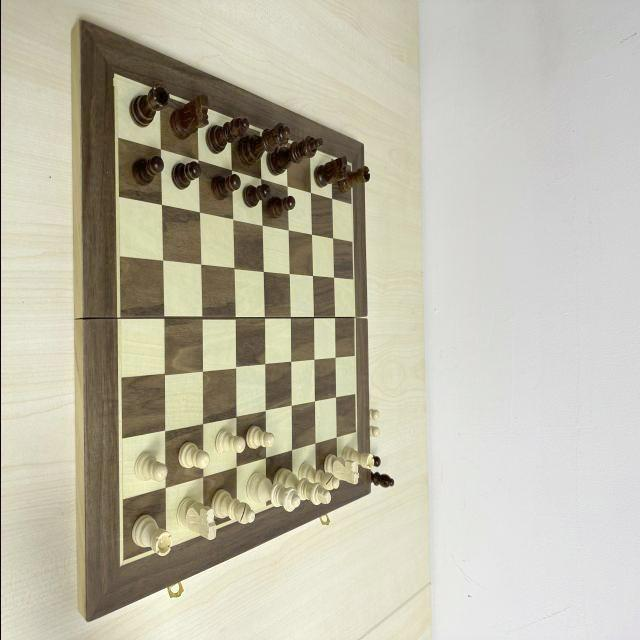chess-table-corners: (112, 70, 119, 86), (117, 556, 125, 568), (354, 467, 360, 478), (348, 161, 352, 169)
